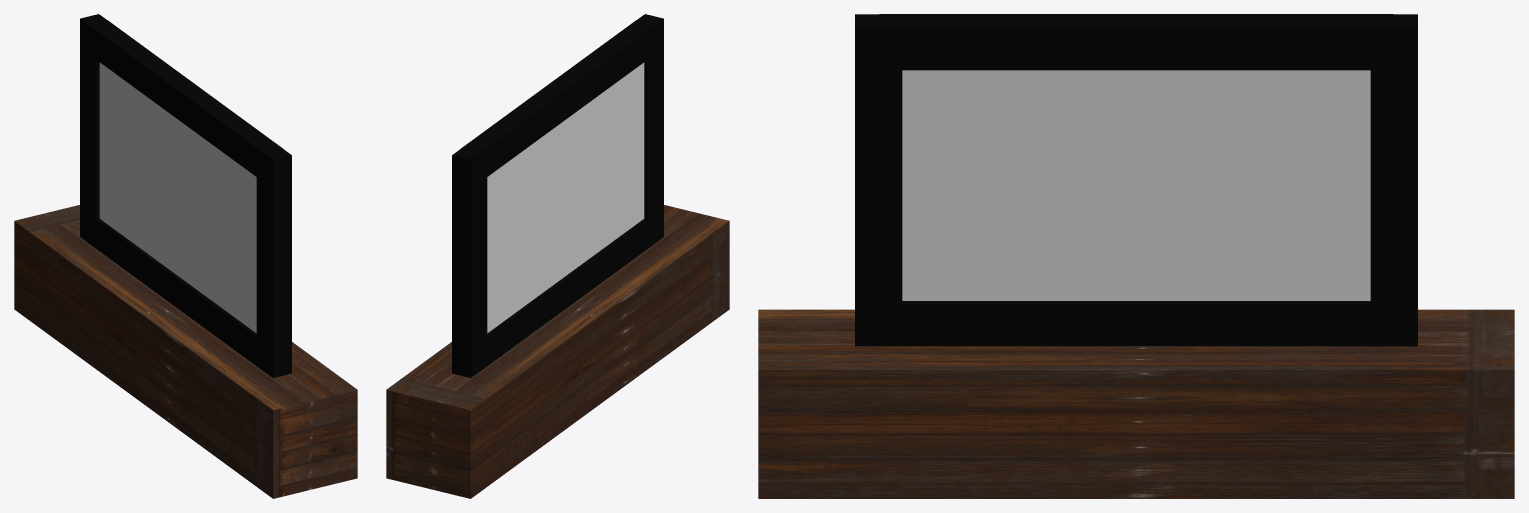
Rendered from theatre-CleVafo_.glb.
The picture shows the model from 3 angles, left to right: view 1: azimuth 30°, elevation 25°; view 2: azimuth 150°, elevation 25°; view 3: azimuth 270°, elevation 25°; orthographic projection. The views are drawn at different scales.
Parts seen in each view (by area): view 1: Cube, Cube.003, screen_body; view 2: Cube, Cube.003, screen_body; view 3: Cube, screen_body, Cube.003.
Boxes of the visible parts, box(x1,y1,x2,y2) form: Cube: box(14, 205, 357, 498); Cube.003: box(80, 14, 291, 377); screen_body: box(99, 62, 256, 333); Cube: box(386, 205, 729, 498); Cube.003: box(452, 14, 663, 377); screen_body: box(487, 62, 644, 333); Cube: box(758, 309, 1514, 498); screen_body: box(902, 70, 1370, 300); Cube.003: box(855, 14, 1417, 346).
Bounding box in the file's own units: 2 × 6.94 × 10.61.
3 materials, 1 textured.
